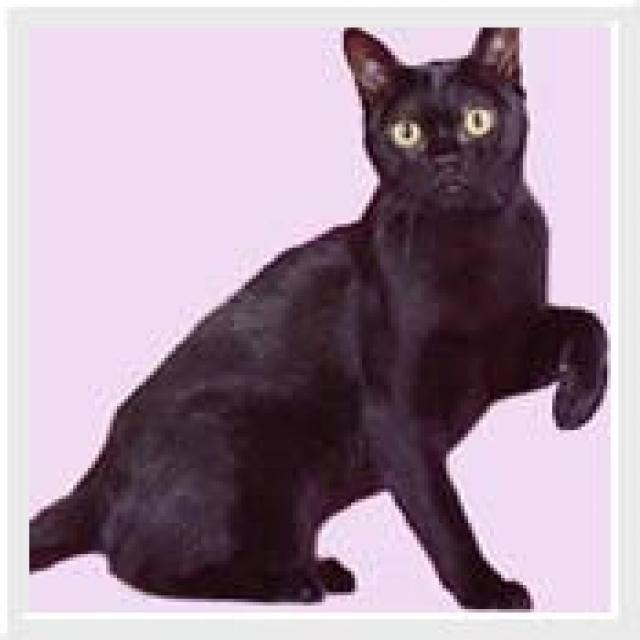Bombay: (334, 16, 532, 256)
